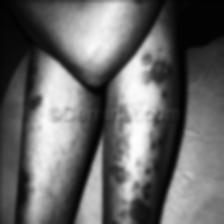Unclassified: (140, 52, 172, 102), (122, 194, 148, 224)
